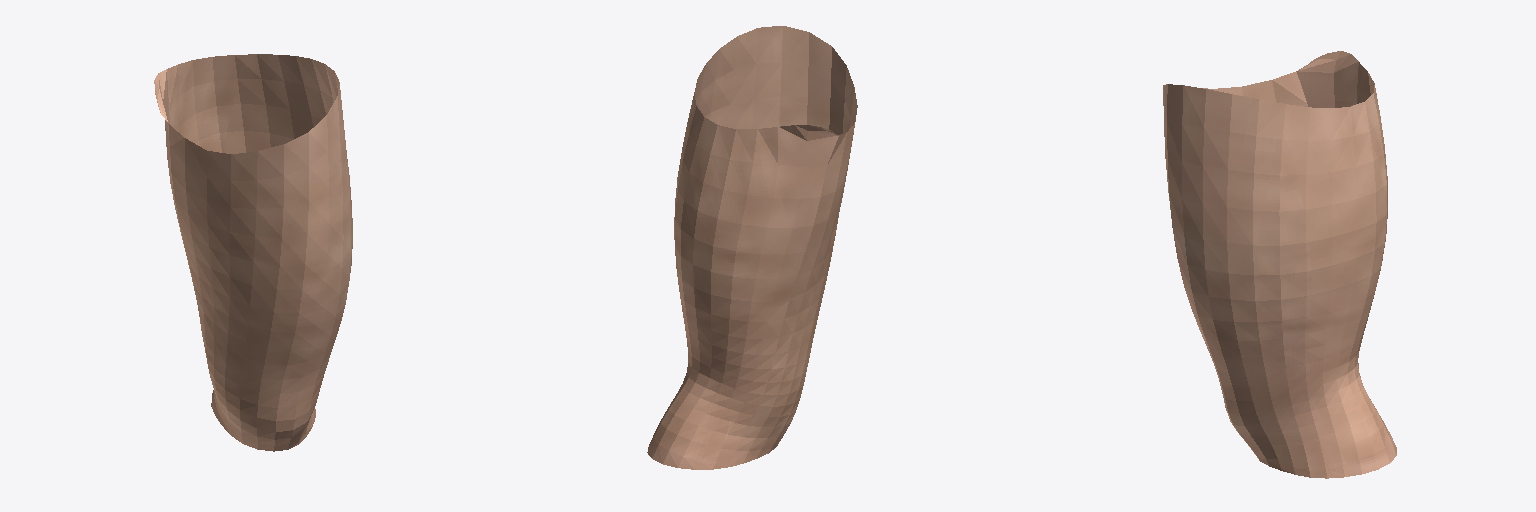
3 views of the same model, side by side, from view 1: azimuth 30°, elevation 25°; view 2: azimuth 150°, elevation 25°; view 3: azimuth 270°, elevation 25° (orthographic).
Parts seen in each view (by area): view 1: piernaIZQ001; view 2: piernaIZQ001; view 3: piernaIZQ001.
Part boxes in pixels (bbox=[...]): piernaIZQ001: bbox=[154, 54, 352, 451]; piernaIZQ001: bbox=[647, 26, 857, 469]; piernaIZQ001: bbox=[1163, 51, 1396, 478].
Size of the model in its own units: 0.1219 by 0.2722 by 0.1521.
Materials: 1 (1 with a texture image).